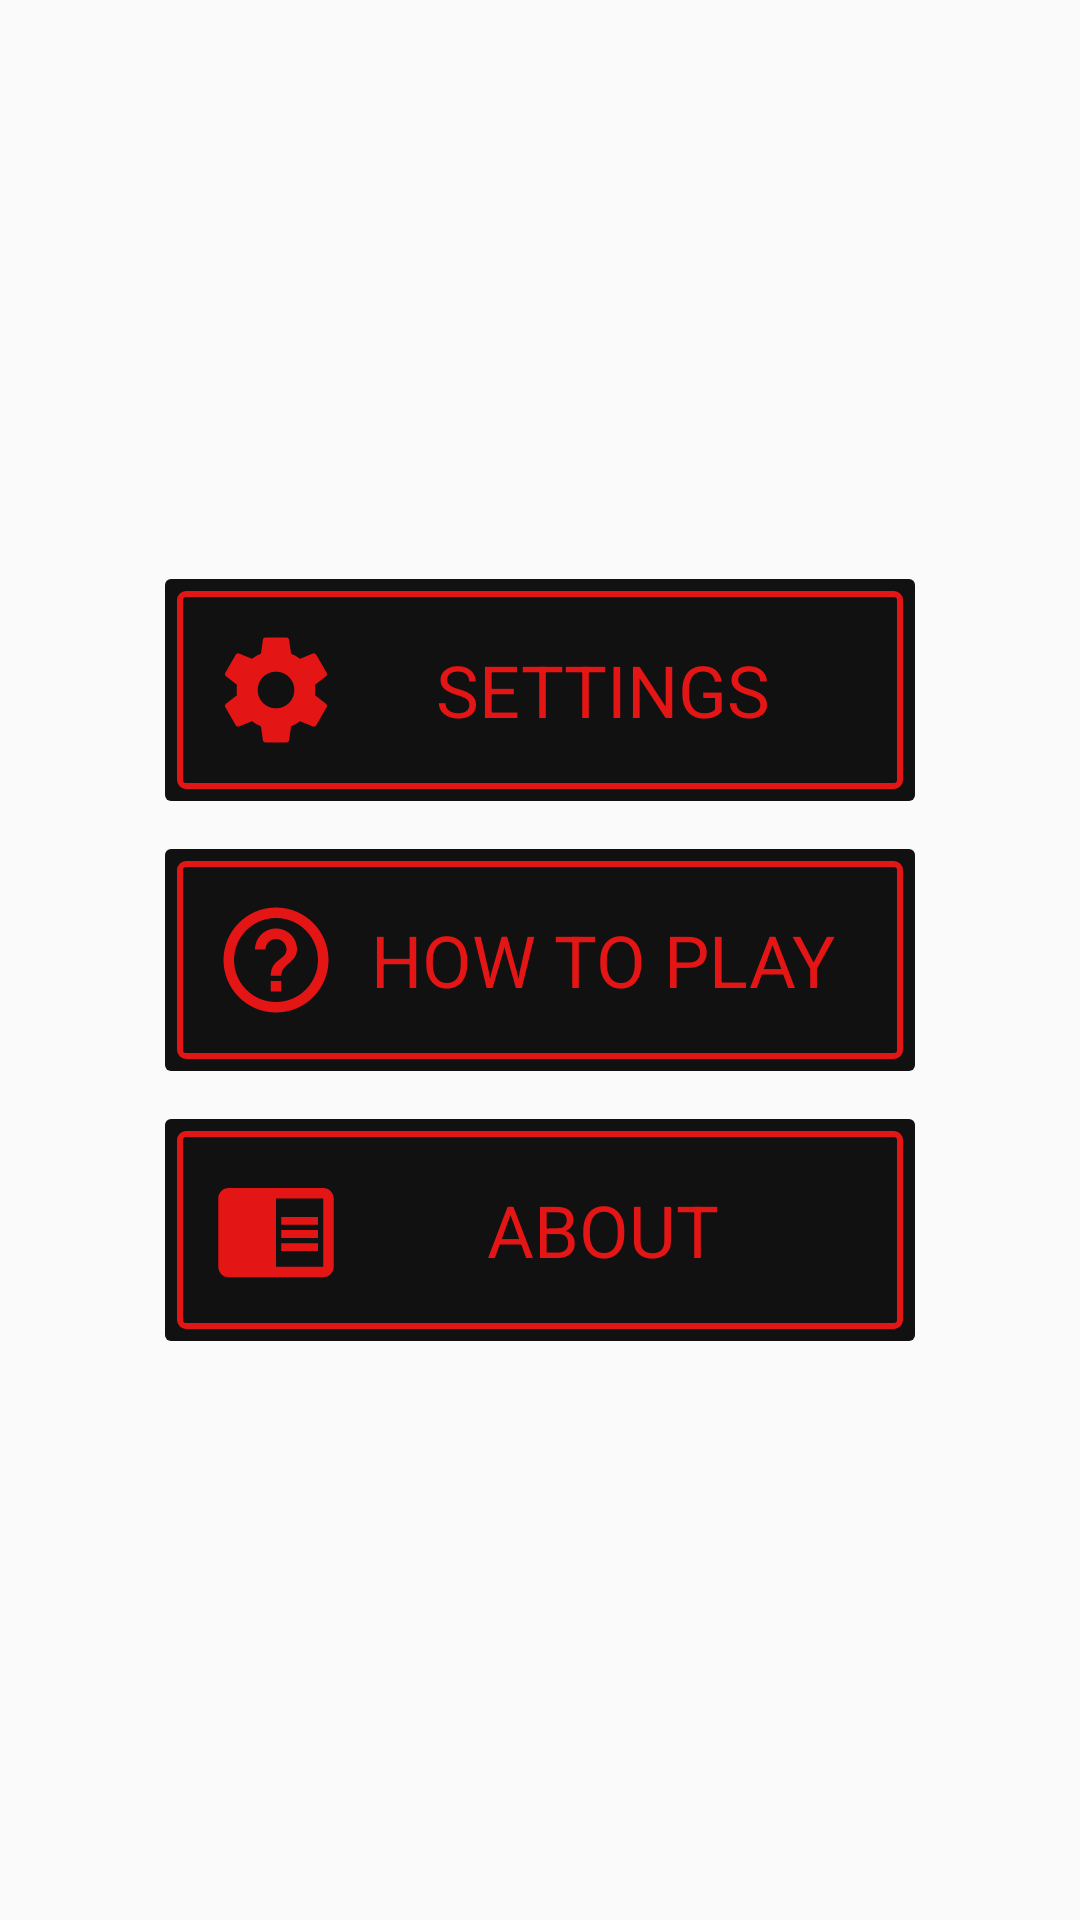

Screen size 1080 x 1920. Icon name, then its box in pixels as (x1, y1, x2, y2):
help: (223, 907, 329, 1013)
